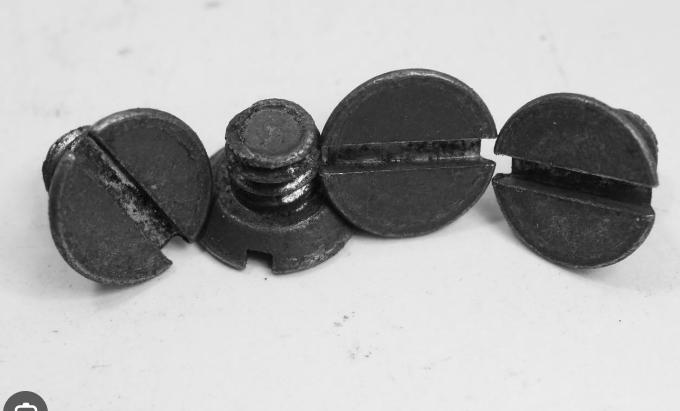screw: (492, 79, 655, 277), (317, 67, 497, 241), (52, 107, 213, 290)
